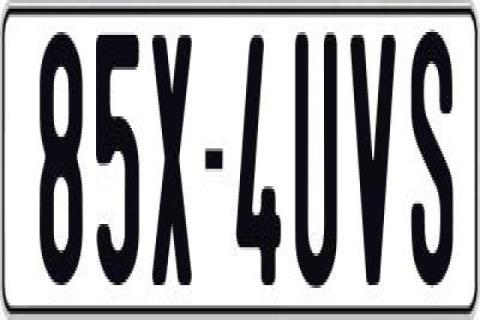0: (94, 29, 144, 291), (234, 29, 284, 285), (38, 32, 86, 288)
S: (410, 24, 454, 288)
U: (294, 29, 338, 285)
V: (350, 35, 396, 297)
X: (148, 35, 192, 291)
